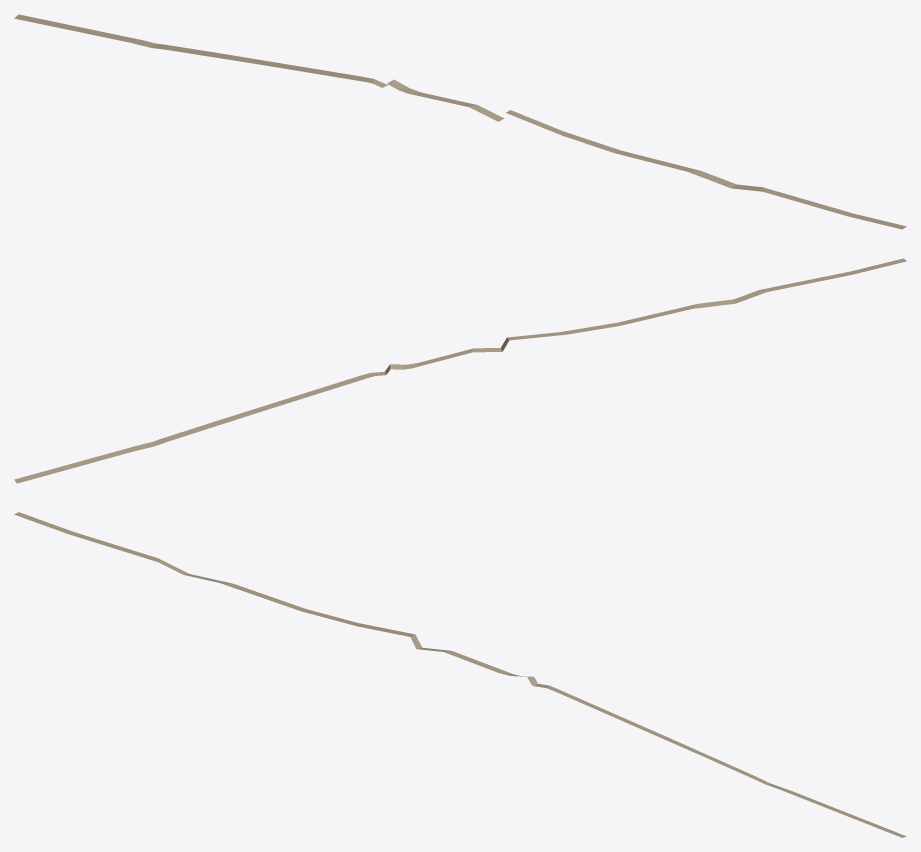
The model's file is farm_-1_-1_track.glb.
3 views of the same model, one above another, from view 1: azimuth 90°, elevation 25°; view 2: azimuth 150°, elevation 25°; view 3: azimuth 270°, elevation 25° (orthographic). The views are drawn at different scales.
Visible parts, largest first — view 1: geometry_0; view 2: geometry_0; view 3: geometry_0.
Boxes of the visible parts, x1=… form: geometry_0: x1=14, y1=14, x2=906, y2=229; geometry_0: x1=14, y1=258, x2=906, y2=483; geometry_0: x1=14, y1=512, x2=906, y2=837.
Size of the model in its own units: 257 by 25.24 by 358.
